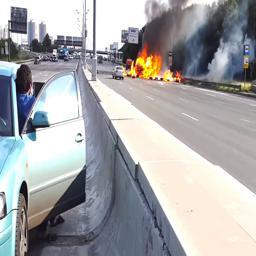fire: (128, 44, 177, 82)
